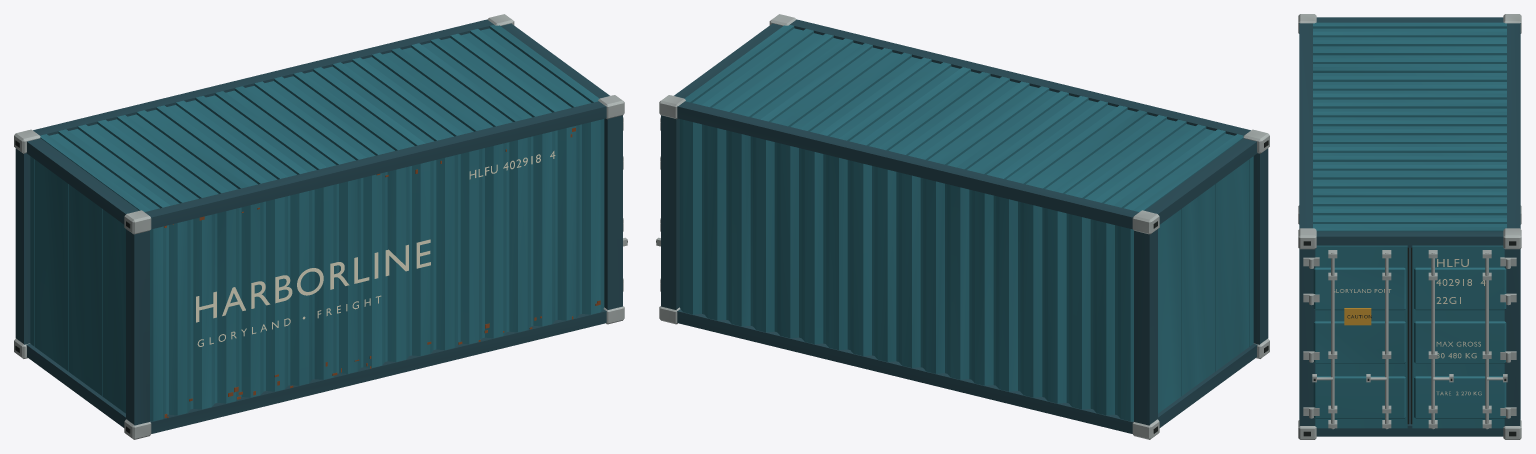
File: harborline-container.glb
3 views of the same model, side by side, from view 1: azimuth 30°, elevation 25°; view 2: azimuth 150°, elevation 25°; view 3: azimuth 270°, elevation 25° (orthographic). The views are drawn at different scales.
Parts seen in each view (by area): view 1: Harborline-Container; view 2: Harborline-Container; view 3: Harborline-Container.
Part boxes in pixels (box(x1,y1,x2,y2)): Harborline-Container: box(14, 14, 627, 439); Harborline-Container: box(656, 14, 1269, 439); Harborline-Container: box(1298, 14, 1521, 439).
Size of the model in its own units: 6.21 by 2.6 by 2.57.
